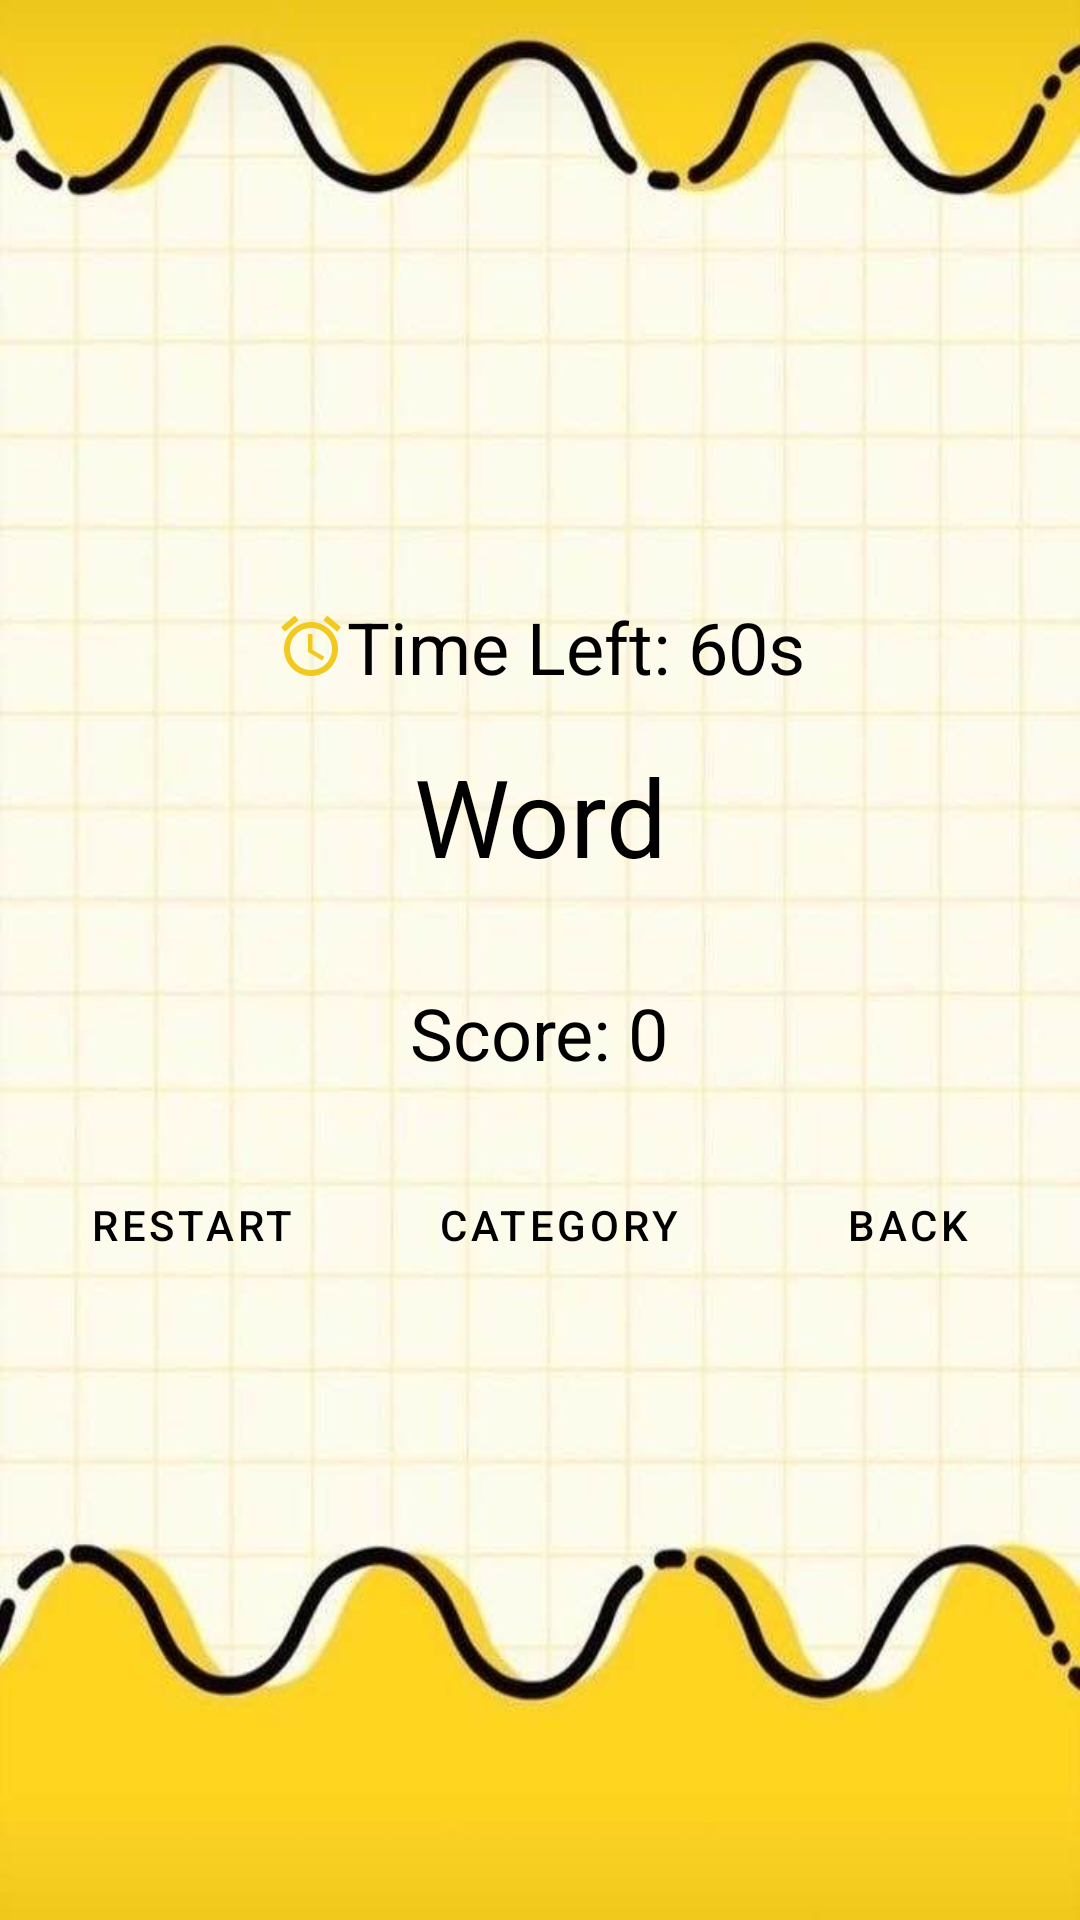

Named icons in this screenshot (1080x1920) and their centers, (x=x, y=y):
access alarm: (x=311, y=645)
